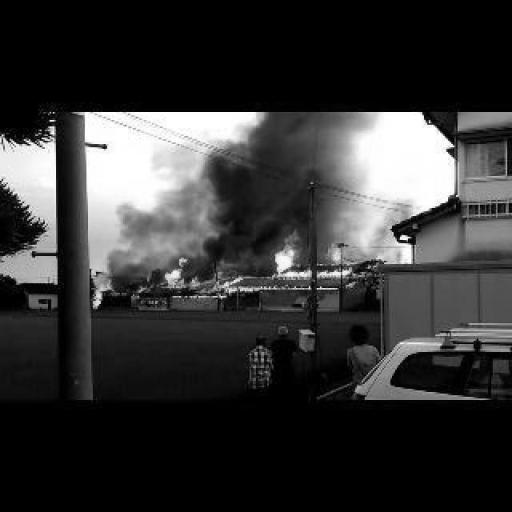smoke: (203, 112, 379, 237), (115, 149, 269, 261), (347, 187, 418, 258), (133, 258, 243, 292), (269, 240, 349, 278), (346, 258, 387, 288), (230, 285, 338, 293), (92, 282, 110, 307), (170, 294, 227, 300), (245, 272, 269, 278), (138, 301, 164, 304)
